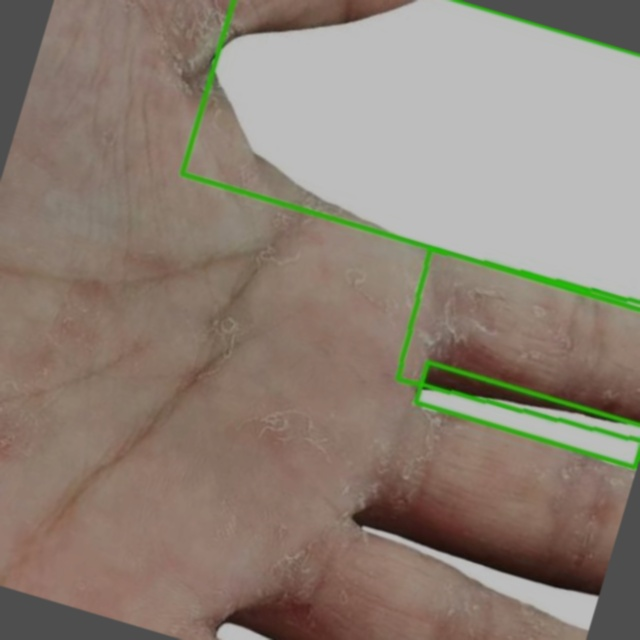Scabies: (182, 0, 639, 309), (397, 249, 639, 442), (416, 363, 639, 468)
